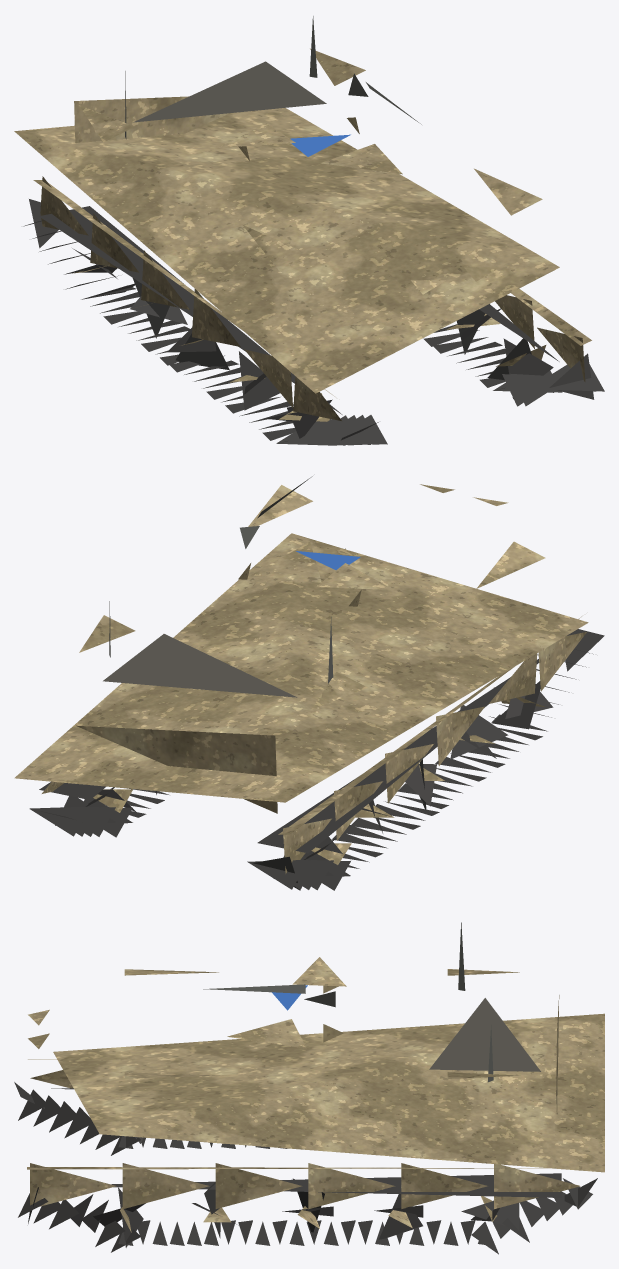
The model's file is afv_e4_us_apc_LOD2.glb.
3 renders of one model, top to bottom at view 1: azimuth 30°, elevation 25°; view 2: azimuth 150°, elevation 25°; view 3: azimuth 270°, elevation 25°, orthographic. The views are drawn at different scales.
Parts seen in each view (by area): view 1: afv_e4_us_apc_LOD2_body, afv_e4_us_apc_LOD2_track, afv_e4_us_apc_LOD2_deck, afv_e4_us_apc_LOD2_gun, afv_e4_us_apc_LOD2_team; view 2: afv_e4_us_apc_LOD2_body, afv_e4_us_apc_LOD2_track, afv_e4_us_apc_LOD2_deck, afv_e4_us_apc_LOD2_gun, afv_e4_us_apc_LOD2_team; view 3: afv_e4_us_apc_LOD2_body, afv_e4_us_apc_LOD2_track, afv_e4_us_apc_LOD2_deck, afv_e4_us_apc_LOD2_gun.
Boxes of the visible parts, left/top/right/bottom form: afv_e4_us_apc_LOD2_body: left=14, top=48, right=591, bottom=421; afv_e4_us_apc_LOD2_track: left=23, top=199, right=604, bottom=445; afv_e4_us_apc_LOD2_deck: left=133, top=61, right=326, bottom=122; afv_e4_us_apc_LOD2_gun: left=125, top=16, right=421, bottom=139; afv_e4_us_apc_LOD2_team: left=290, top=134, right=350, bottom=156; afv_e4_us_apc_LOD2_body: left=14, top=484, right=588, bottom=873; afv_e4_us_apc_LOD2_track: left=29, top=629, right=604, bottom=890; afv_e4_us_apc_LOD2_deck: left=103, top=634, right=297, bottom=697; afv_e4_us_apc_LOD2_gun: left=109, top=476, right=333, bottom=683; afv_e4_us_apc_LOD2_team: left=296, top=551, right=360, bottom=569; afv_e4_us_apc_LOD2_body: left=27, top=957, right=604, bottom=1232; afv_e4_us_apc_LOD2_track: left=14, top=1082, right=597, bottom=1254; afv_e4_us_apc_LOD2_deck: left=429, top=998, right=540, bottom=1071; afv_e4_us_apc_LOD2_gun: left=203, top=922, right=493, bottom=1082.
Bounding box in the file's own units: 3.05 × 2.76 × 6.32.
Materials: 5 (1 with a texture image).
